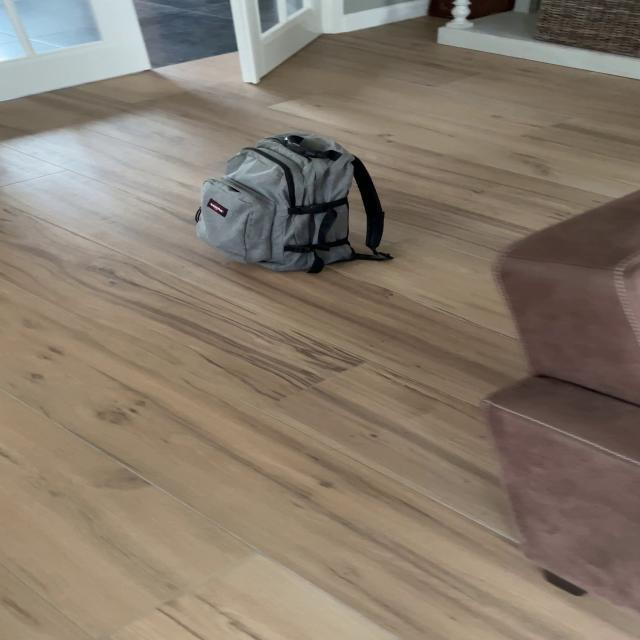backpack: (182, 127, 382, 275)
